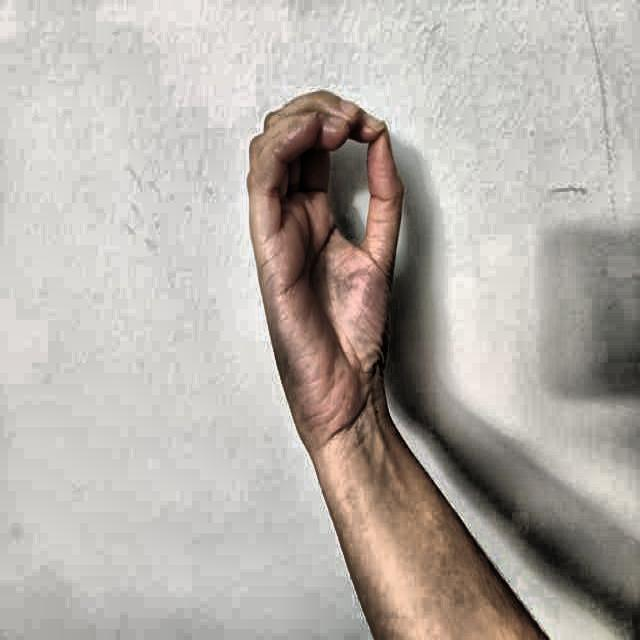O: (226, 67, 432, 450)
